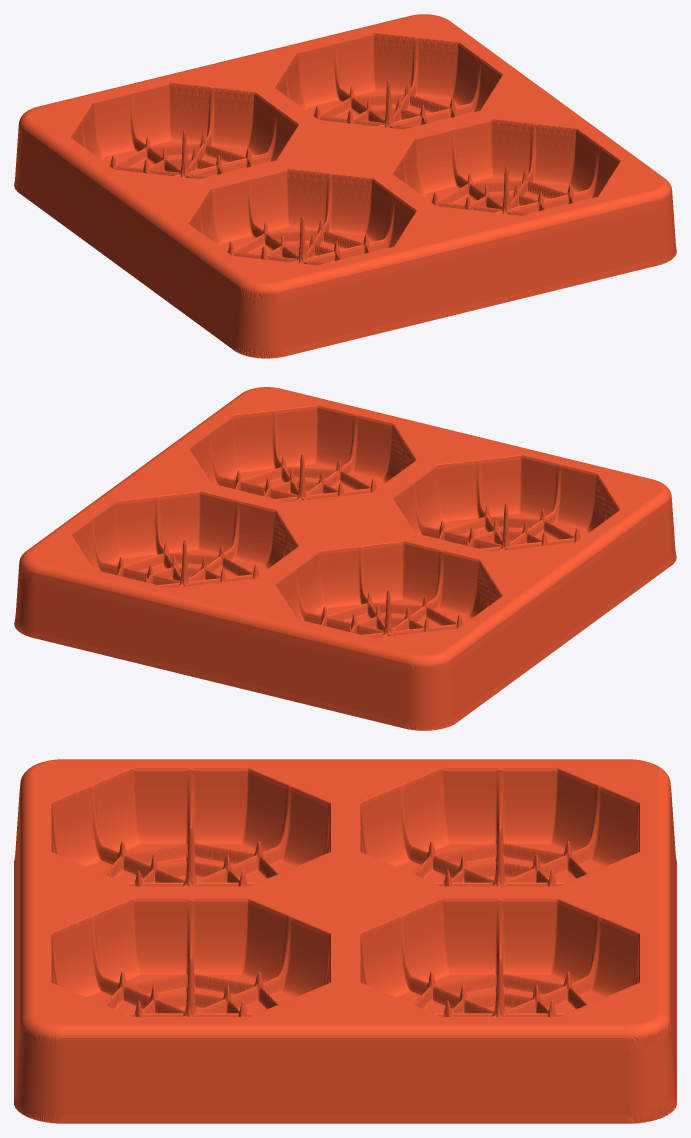
Rendered from mold.glb.
The picture shows the model from 3 angles, top to bottom: view 1: azimuth 30°, elevation 25°; view 2: azimuth 150°, elevation 25°; view 3: azimuth 270°, elevation 25°; orthographic projection. The views are drawn at different scales.
Parts seen in each view (by area): view 1: geometry_0; view 2: geometry_0; view 3: geometry_0.
Boxes of the visible parts, box(x1,y1,x2,y2) form: geometry_0: box(14, 14, 676, 358); geometry_0: box(14, 387, 676, 730); geometry_0: box(14, 759, 676, 1123).
Bounding box in the file's own units: 0.1218 × 0.0185 × 0.1218.
